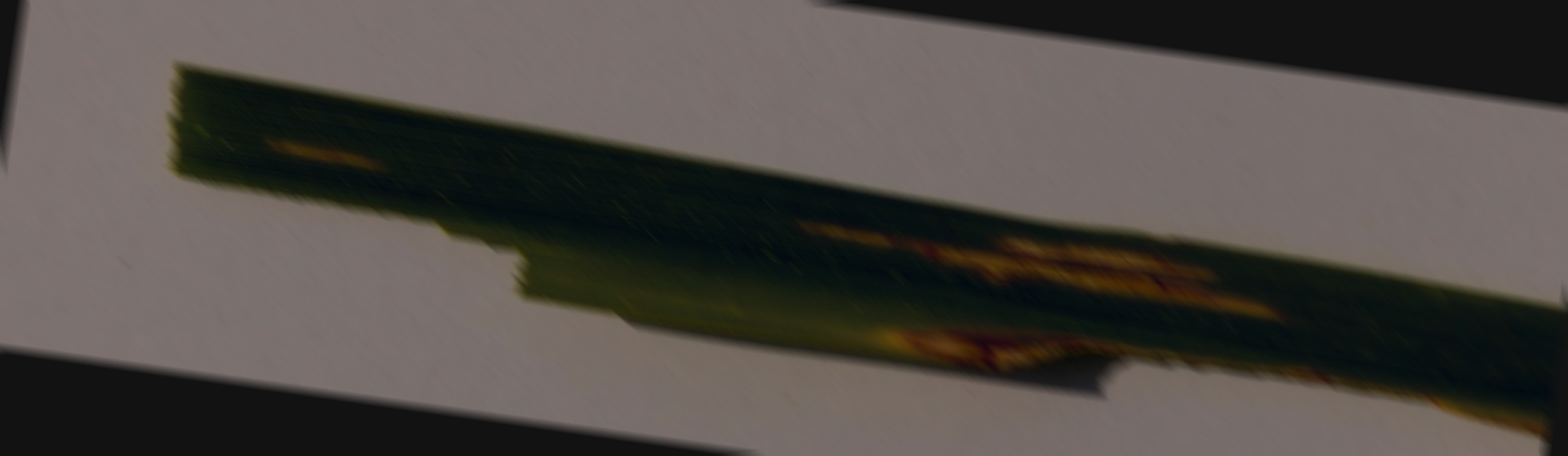Leaf_Blast: (728, 220, 1316, 297), (210, 115, 424, 186)
